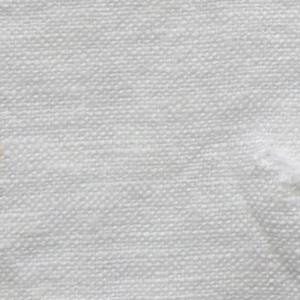Wrinkle: (228, 171, 300, 300)
